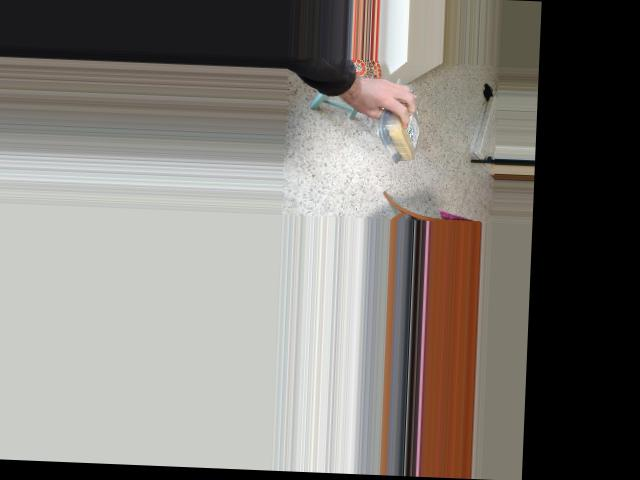cheese: (375, 88, 425, 166)
